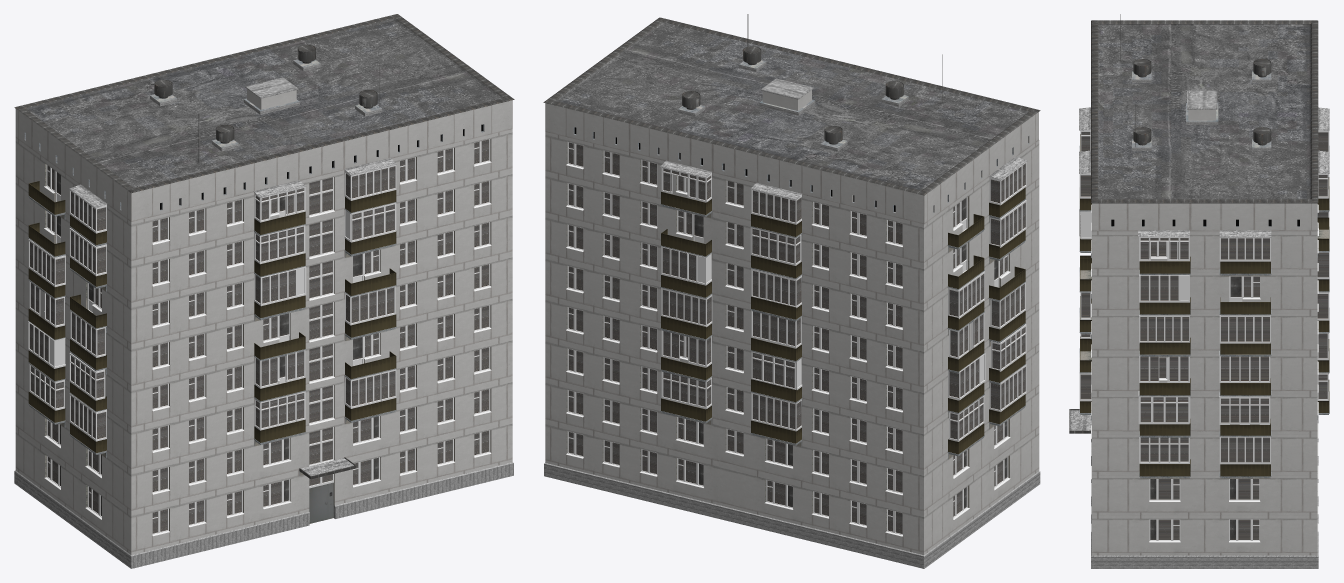
File: KTX.glb
The picture shows the model from 3 angles, left to right: view 1: azimuth 30°, elevation 25°; view 2: azimuth 150°, elevation 25°; view 3: azimuth 270°, elevation 25°; orthographic projection. The views are drawn at different scales.
Visible parts, largest first — view 1: stena_body_0, stena_steklo okna_0, stena_krisha_0, stena_plastic okna_0 (×2), stena_Material #288_0, stena_Material #2939_0, stena_Material #127_0, stena_Material #265_0, stena_Material #301_0, stena_Material #373_0; view 2: stena_body_0, stena_steklo okna_0, stena_krisha_0, stena_plastic okna_0 (×2), stena_Material #2939_0, stena_Material #288_0, stena_Material #127_0, stena_Material #265_0, stena_Material #301_0; view 3: stena_body_0, stena_krisha_0, stena_steklo okna_0, stena_plastic okna_0, stena_Material #288_0, stena_Material #2939_0, stena_Material #265_0, stena_Material #373_0 (×2), stena_Material #127_0, stena_Material #301_0, stena_Material #350_0.
Part boxes in pixels (box(x1,y1,x2,y2)): stena_body_0: box(15, 59, 512, 554); stena_steklo okna_0: box(29, 139, 488, 533); stena_krisha_0: box(25, 18, 502, 187); stena_plastic okna_0 (×2): box(28, 139, 490, 534); stena_Material #288_0: box(14, 14, 514, 479); stena_Material #2939_0: box(14, 462, 513, 568); stena_Material #127_0: box(44, 161, 491, 536); stena_Material #265_0: box(69, 61, 396, 475); stena_Material #301_0: box(69, 225, 305, 400); stena_Material #373_0: box(351, 202, 395, 242); stena_body_0: box(545, 60, 1039, 554); stena_steklo okna_0: box(568, 142, 1025, 533); stena_krisha_0: box(555, 22, 1029, 190); stena_plastic okna_0 (×2): box(567, 141, 1026, 534); stena_Material #2939_0: box(544, 463, 1040, 568); stena_Material #288_0: box(543, 14, 1040, 195); stena_Material #127_0: box(566, 164, 1010, 536); stena_Material #265_0: box(660, 62, 1027, 199); stena_Material #301_0: box(750, 227, 1026, 371); stena_body_0: box(1079, 71, 1329, 555); stena_krisha_0: box(1098, 24, 1311, 199); stena_steklo okna_0: box(1080, 132, 1328, 539); stena_plastic okna_0: box(1079, 129, 1329, 540); stena_Material #288_0: box(1069, 14, 1318, 433); stena_Material #2939_0: box(1091, 415, 1318, 568); stena_Material #265_0: box(1070, 79, 1329, 430); stena_Material #373_0 (×2): box(1079, 211, 1190, 424); stena_Material #127_0: box(1091, 87, 1318, 542); stena_Material #301_0: box(1219, 174, 1329, 424); stena_Material #350_0: box(1139, 237, 1189, 261).
Size of the model in its own units: 29.59 by 29.62 by 16.96.
15 materials, 6 textured.
